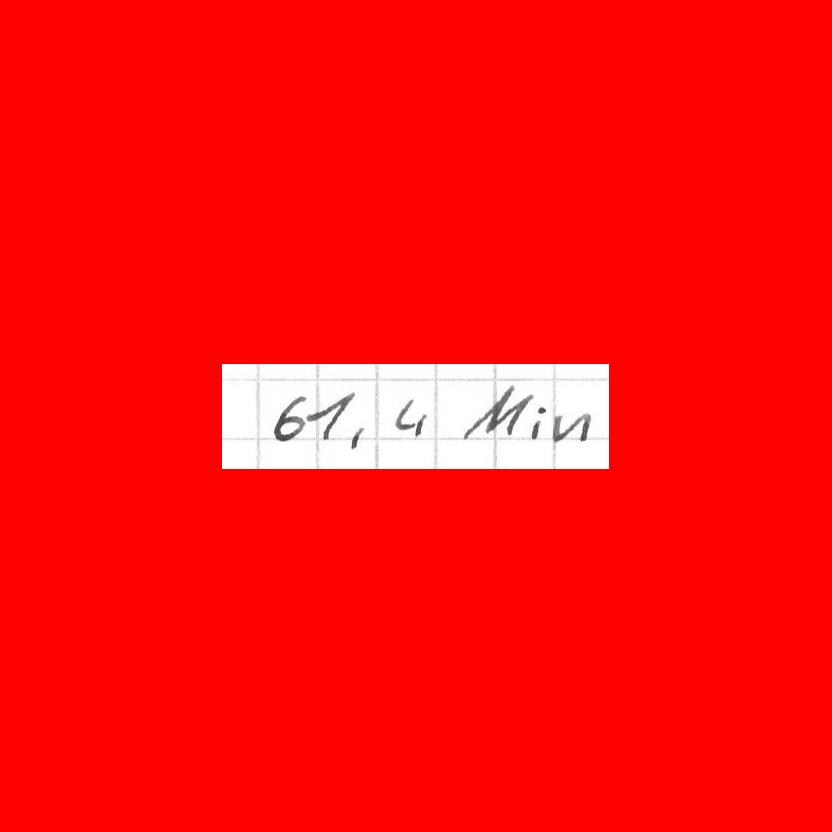Char: (466, 387, 525, 439), (309, 393, 349, 442), (270, 391, 307, 442), (392, 395, 430, 441), (552, 409, 589, 444), (527, 403, 549, 442), (349, 425, 366, 451)
